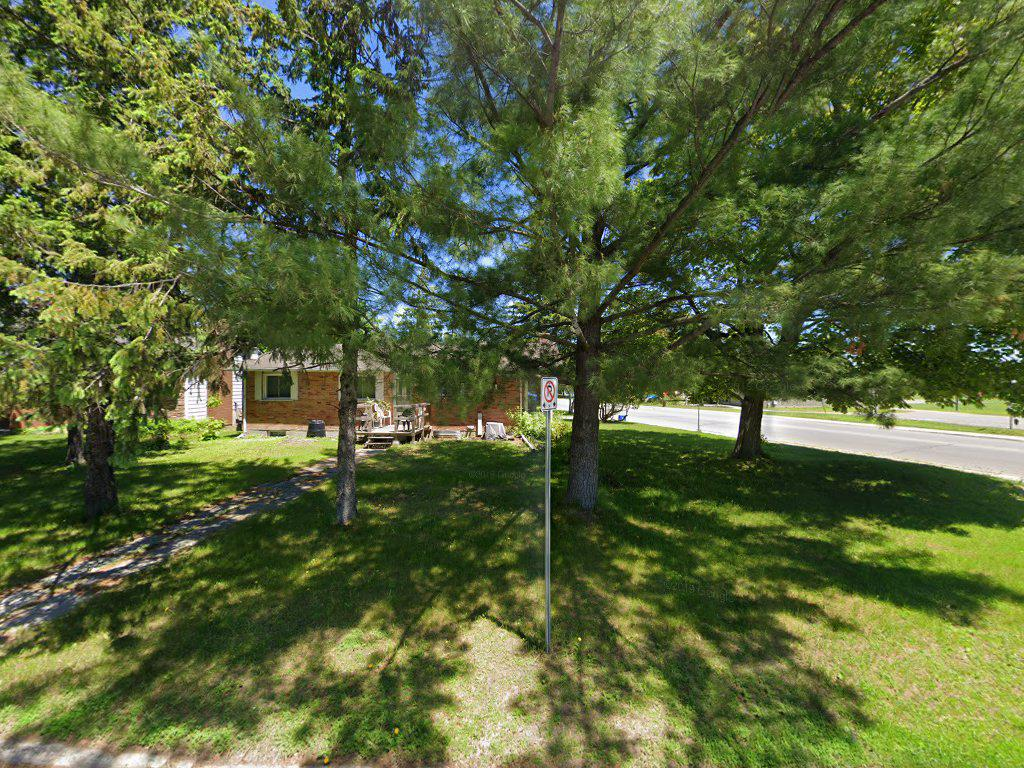trunk: (565, 298, 609, 539), (334, 325, 367, 538)
